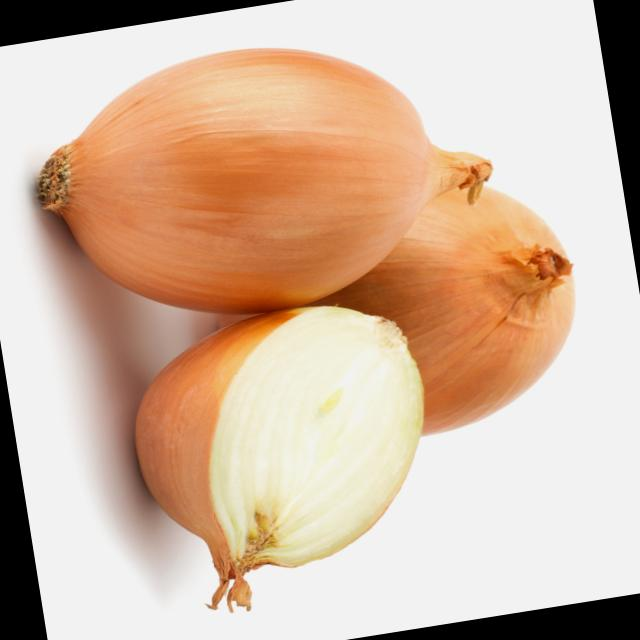orange: (8, 14, 510, 346), (109, 286, 461, 626), (303, 180, 606, 456)
